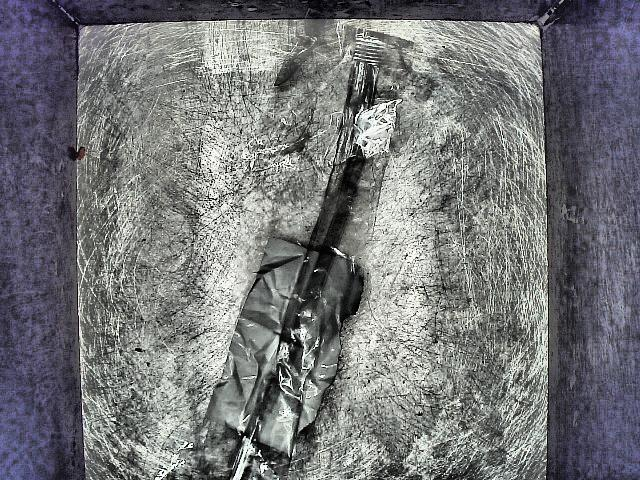Plastic: (204, 15, 415, 476)
